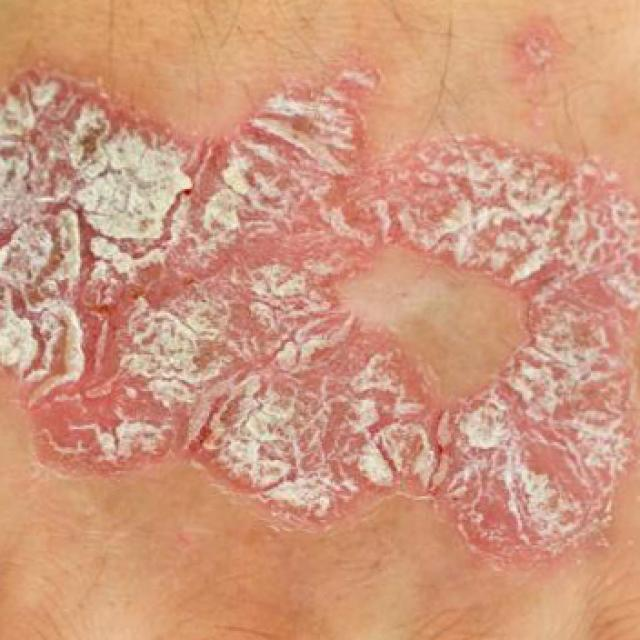Psoriasis: (0, 60, 640, 556), (498, 4, 589, 86)
